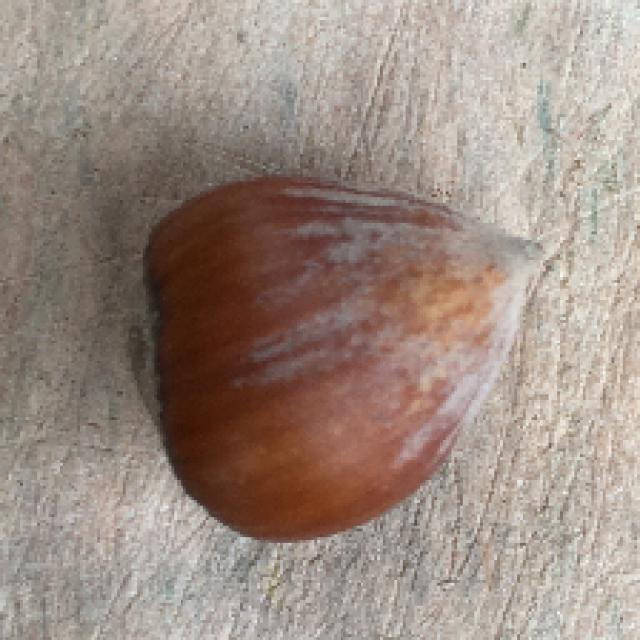QualityHazelnut: (129, 174, 538, 546)
